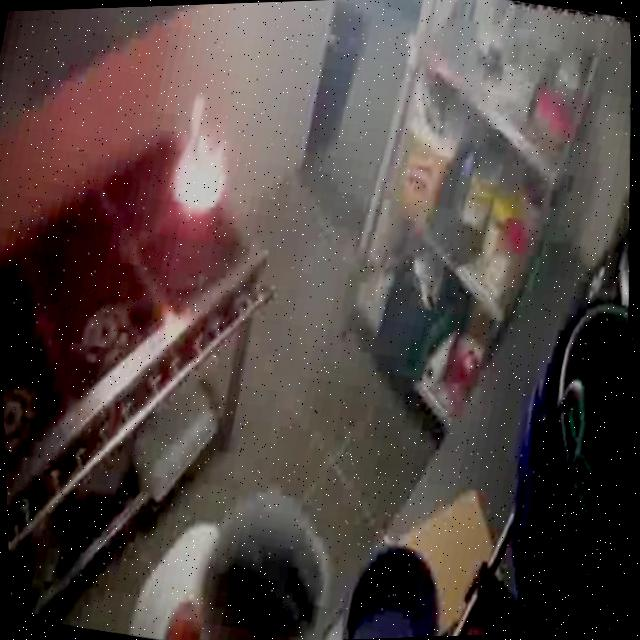fire: (123, 52, 277, 280)
